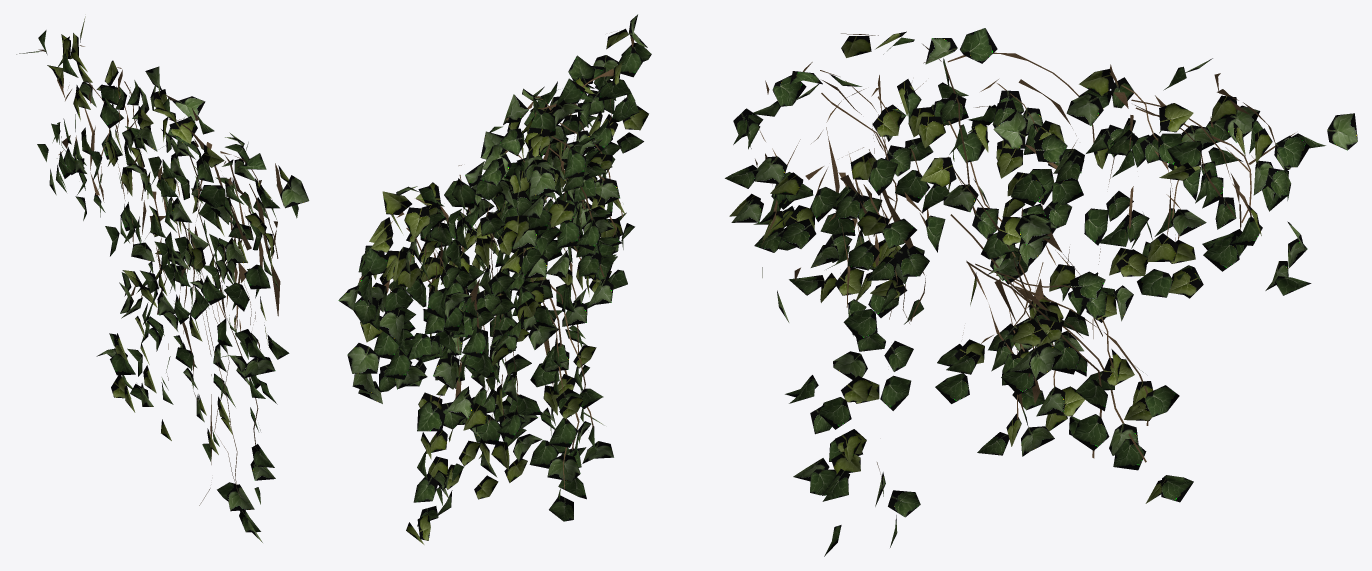
File: SM_Ivy_01a.gltf
3 views of the same model, side by side, from view 1: azimuth 30°, elevation 25°; view 2: azimuth 150°, elevation 25°; view 3: azimuth 270°, elevation 25° (orthographic). The views are drawn at different scales.
Visible parts, largest first — view 1: SM_Ivy_01a; view 2: SM_Ivy_01a; view 3: SM_Ivy_01a.
Part boxes in pixels (left/top/right/bottom): SM_Ivy_01a: left=16, top=16, right=309, bottom=542; SM_Ivy_01a: left=338, top=14, right=651, bottom=544; SM_Ivy_01a: left=725, top=28, right=1357, bottom=556.
Size of the model in its own units: 0.5691 by 2.24 by 2.61.
2 materials, 2 textured.
